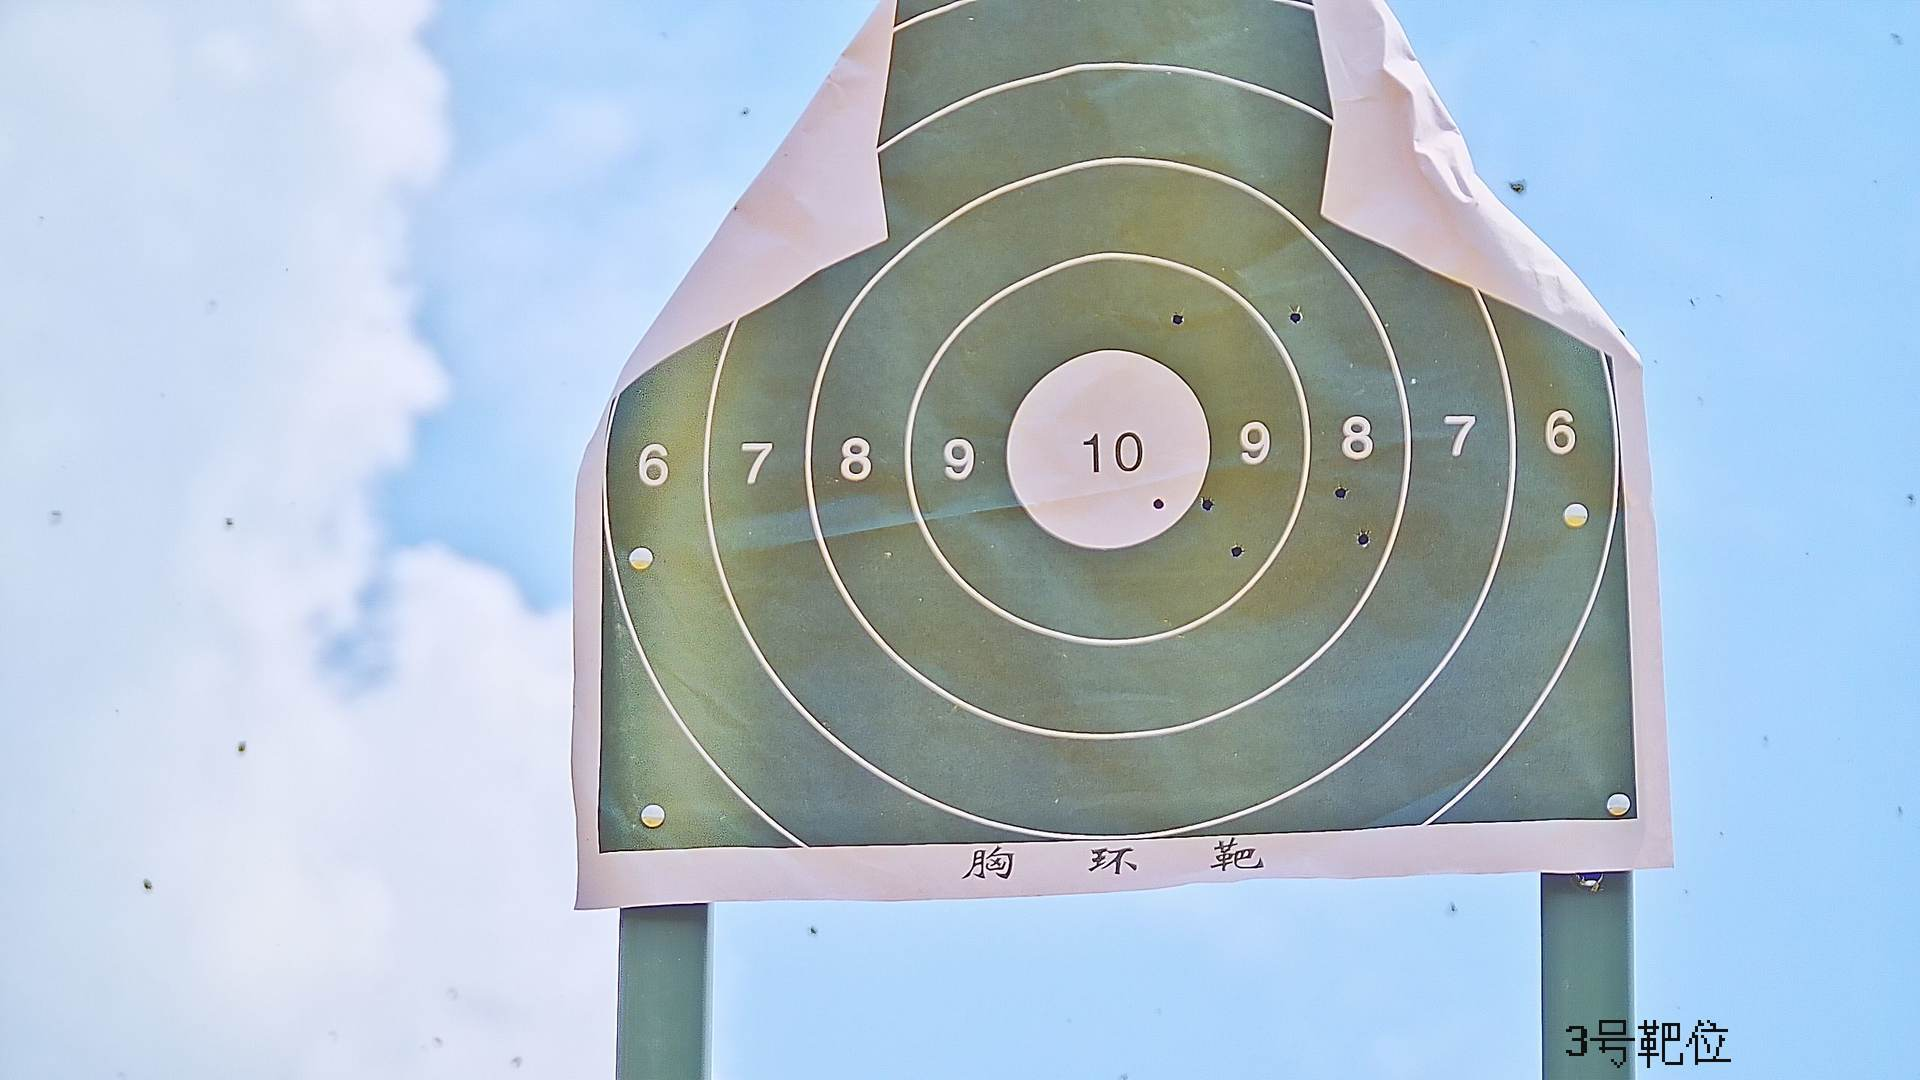hole: (1356, 531, 1370, 549), (1172, 310, 1185, 324), (1200, 498, 1215, 512), (1288, 310, 1300, 326), (1335, 485, 1346, 501), (1153, 495, 1163, 509), (1232, 545, 1244, 556)
kernel: (1105, 448, 1109, 458)
target: (603, 5, 1627, 843)
ten: (1001, 347, 1213, 553)
